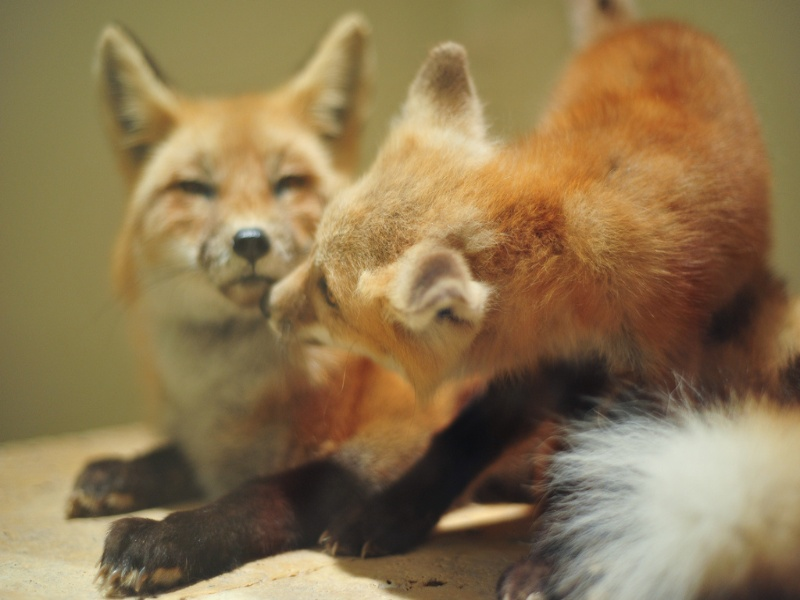fox: (261, 33, 782, 569), (69, 16, 459, 592)
